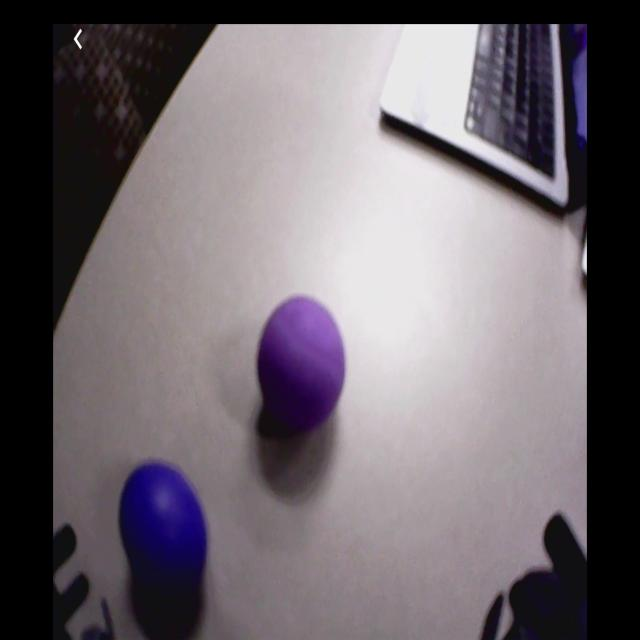ball: (257, 296, 348, 436), (119, 460, 208, 592)
